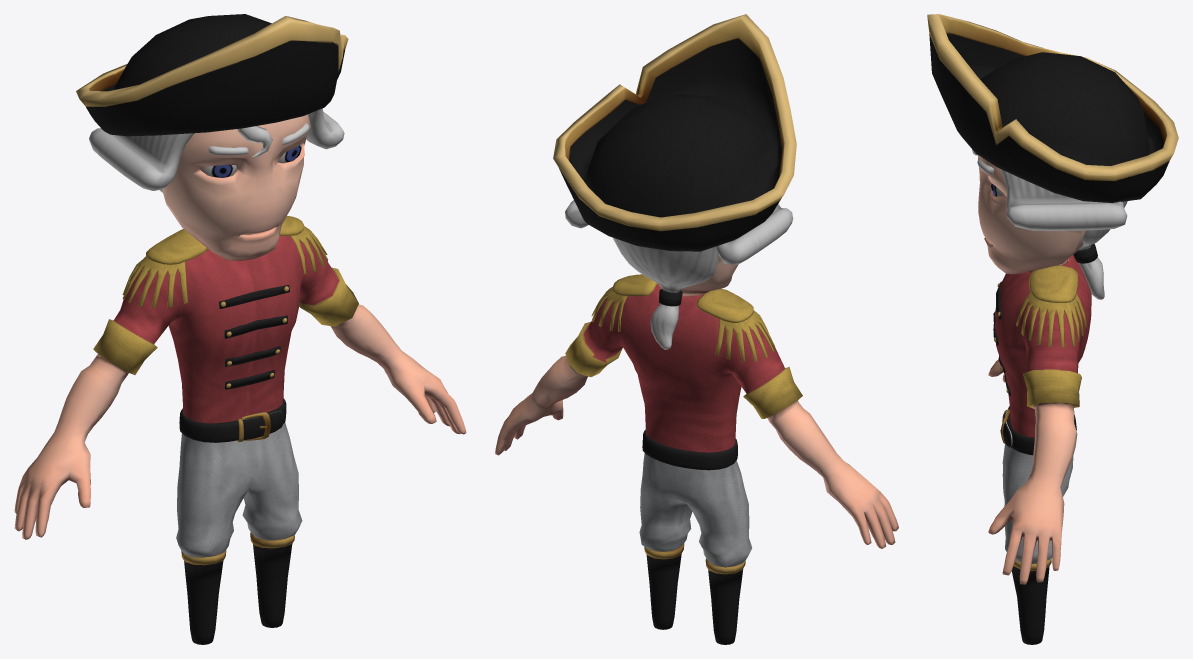
File: LieutenantB.fbx
3 renders of one model, left to right at view 1: azimuth 30°, elevation 25°; view 2: azimuth 150°, elevation 25°; view 3: azimuth 270°, elevation 25°, orthographic. The views are drawn at different scales.
Visible parts, largest first — view 1: BezierCurve; view 2: BezierCurve; view 3: BezierCurve.
Boxes of the visible parts, x1,y1,x2,y2 form: BezierCurve: [14, 14, 466, 644]; BezierCurve: [495, 14, 898, 644]; BezierCurve: [927, 14, 1178, 644].
Size of the model in its own units: 117 by 168 by 62.65.
